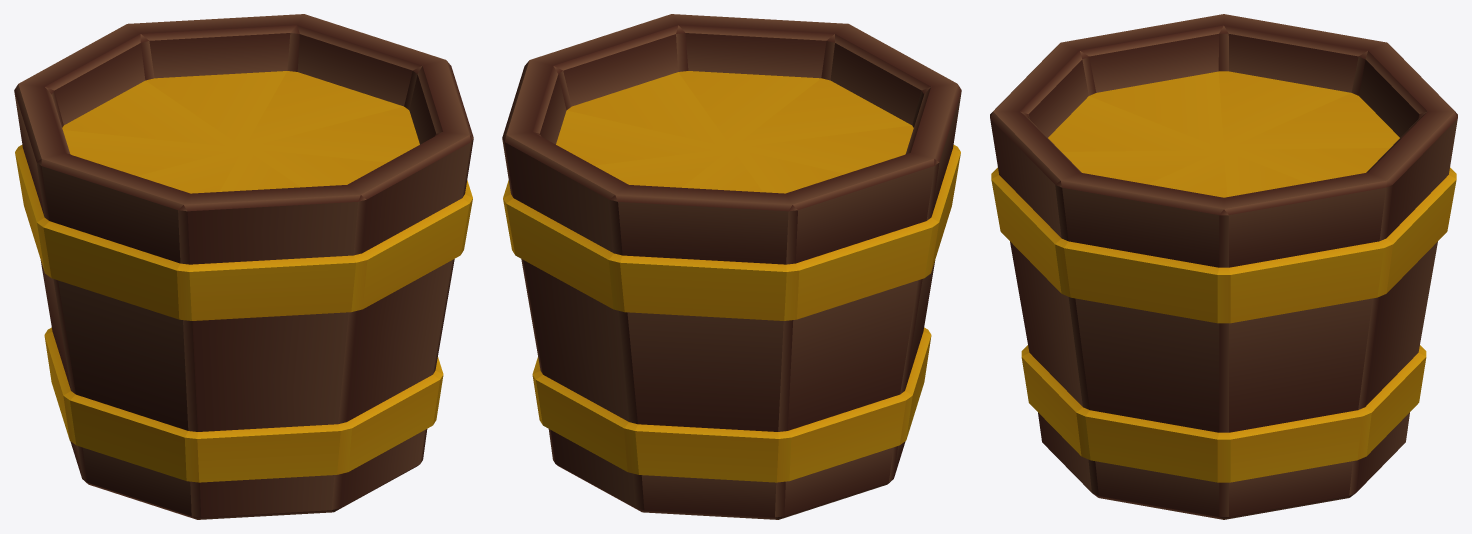
Rendered from GOLD BUCKET.fbx.
3 views of the same model, side by side, from view 1: azimuth 30°, elevation 25°; view 2: azimuth 150°, elevation 25°; view 3: azimuth 270°, elevation 25° (orthographic).
Visible parts, largest first — view 1: Barell; view 2: Barell; view 3: Barell.
Boxes of the visible parts, bbox=[...] form: Barell: bbox=[14, 14, 473, 519]; Barell: bbox=[502, 14, 961, 519]; Barell: bbox=[990, 14, 1457, 519].
Bounding box in the file's own units: 49.78 × 39.15 × 49.78.
